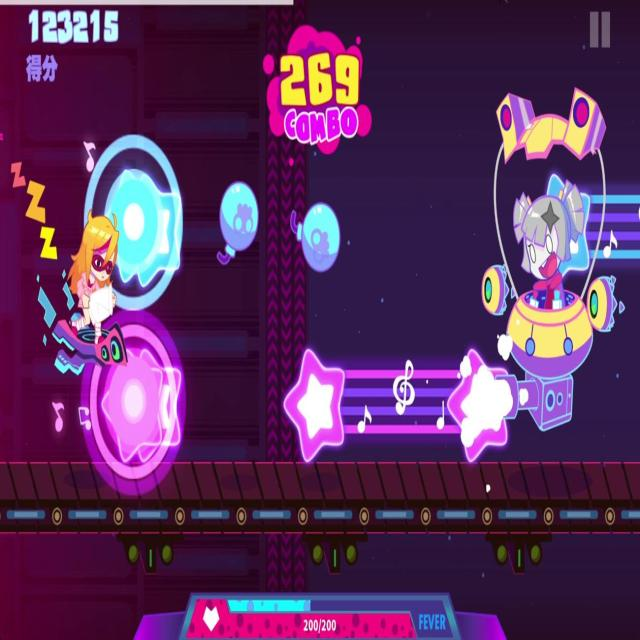hold: (285, 342, 511, 464)
qiangboss: (484, 57, 628, 451)
tang: (284, 179, 345, 278), (206, 181, 260, 265)
